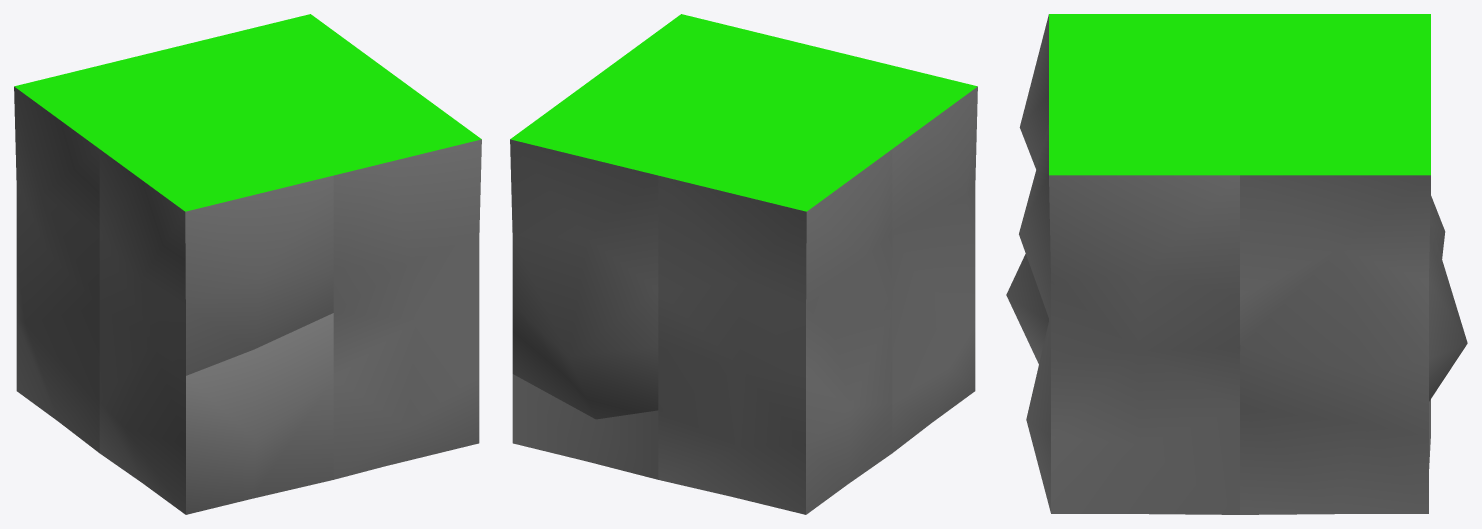
Rendered from Earth_cube.fbx.
3 renders of one model, left to right at view 1: azimuth 30°, elevation 25°; view 2: azimuth 150°, elevation 25°; view 3: azimuth 270°, elevation 25°, orthographic. The views are drawn at different scales.
Visible parts, largest first — view 1: Object064, Object062, Object045, Object044; view 2: Object045, Object044, Object064, Object062; view 3: Object062, Object044, Object064, Object045.
Boxes of the visible parts, x1,y1,x2,y2 form: Object064: (99,113,333,514); Object062: (248,76,481,479); Object045: (14,50,247,452); Object044: (162,14,395,112); Object045: (658,113,892,514); Object044: (510,76,743,479); Object064: (744,50,977,452); Object062: (596,14,829,298); Object062: (1019,94,1240,514); Object044: (1240,94,1467,514); Object064: (1006,14,1239,363); Object045: (1240,14,1445,258).
Size of the model in its own units: 906 by 966 by 784.
